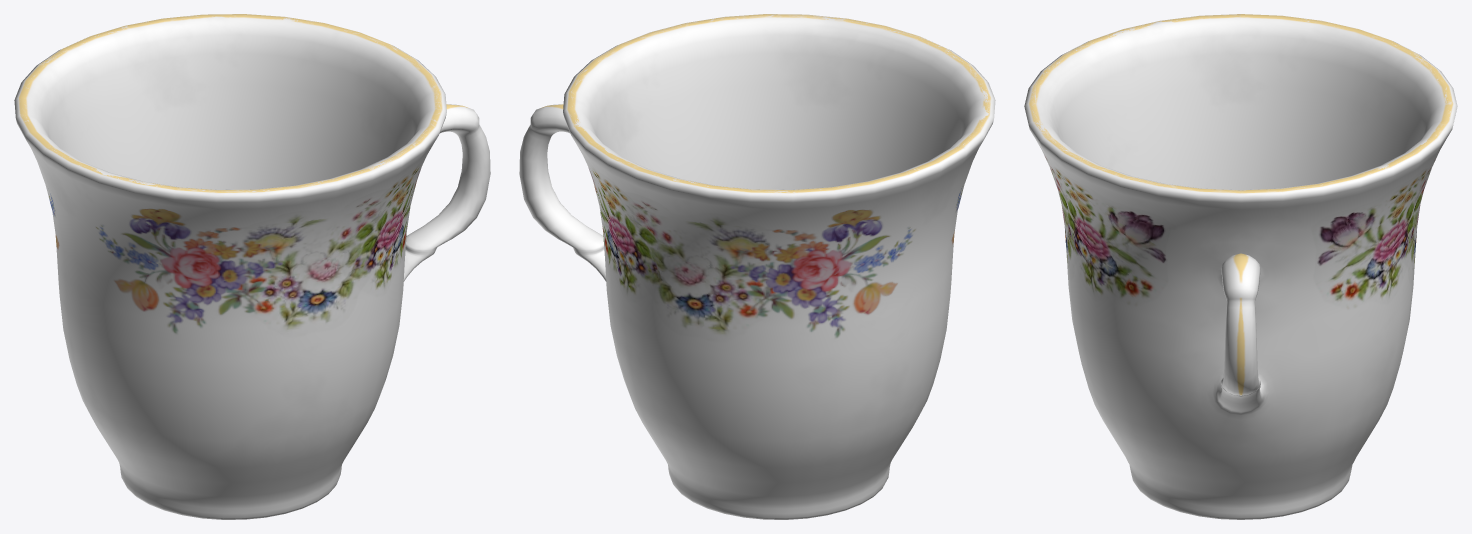
File: porcelain_cup.glb
The picture shows the model from 3 angles, left to right: view 1: azimuth 30°, elevation 25°; view 2: azimuth 150°, elevation 25°; view 3: azimuth 270°, elevation 25°; orthographic projection.
Parts seen in each view (by area): view 1: porcelain_cup; view 2: porcelain_cup; view 3: porcelain_cup.
Boxes of the visible parts, x1,y1,x2,y2 form: porcelain_cup: [14, 14, 490, 519]; porcelain_cup: [519, 14, 995, 519]; porcelain_cup: [1024, 14, 1457, 519].
Bounding box in the file's own units: 5.8 × 4.62 × 4.89.
Materials: 1 (1 with a texture image).
